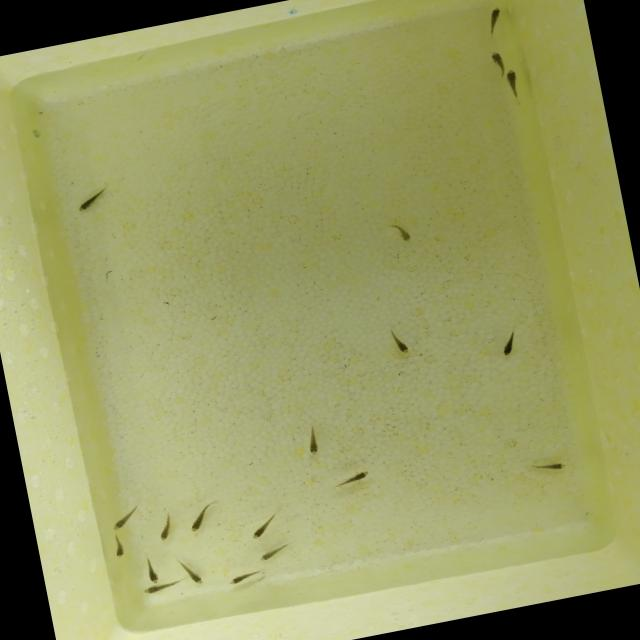fingerling: (72, 178, 118, 216), (185, 498, 225, 534), (108, 498, 148, 531), (254, 538, 301, 564), (245, 509, 283, 540), (330, 466, 376, 491), (178, 553, 208, 590), (481, 4, 510, 41), (386, 322, 414, 358), (496, 322, 524, 358), (526, 455, 570, 477), (502, 67, 526, 107), (384, 220, 416, 247), (301, 422, 324, 459), (154, 509, 177, 544), (227, 566, 267, 586), (141, 549, 162, 585), (140, 581, 176, 597), (109, 530, 128, 559), (487, 49, 508, 71)
